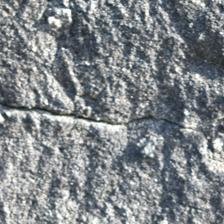Crack: (3, 47, 219, 114)
